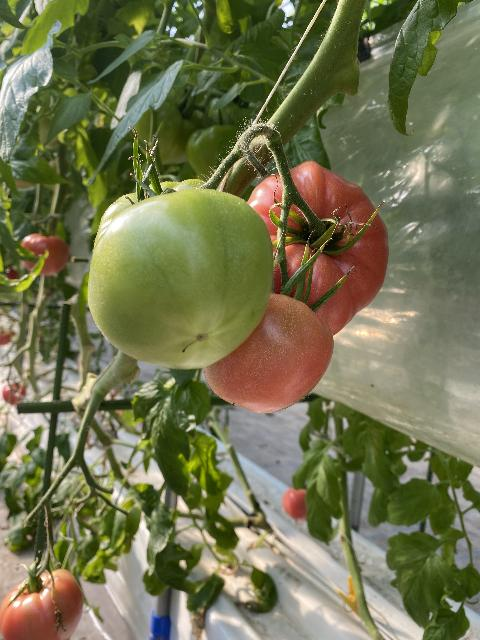b_fully_ripened: (247, 161, 390, 336)
b_green: (87, 186, 275, 370), (92, 178, 207, 256)
b_half_ripened: (203, 293, 334, 414), (0, 570, 84, 639)
